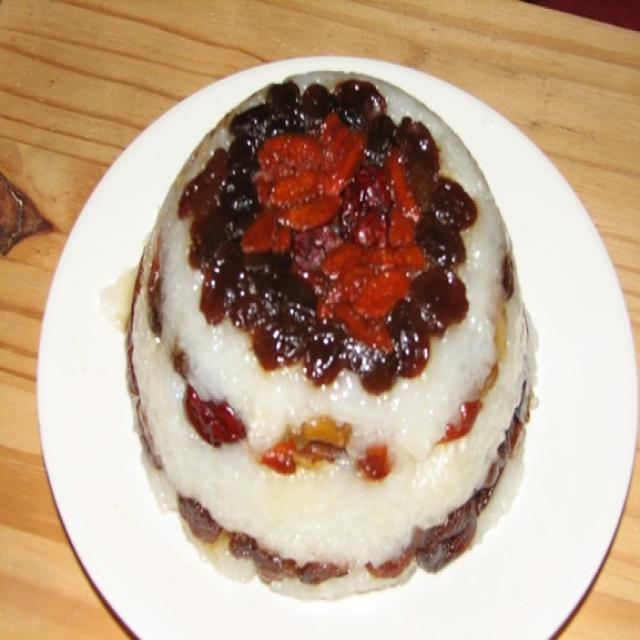米饭主食: (111, 58, 571, 608)
